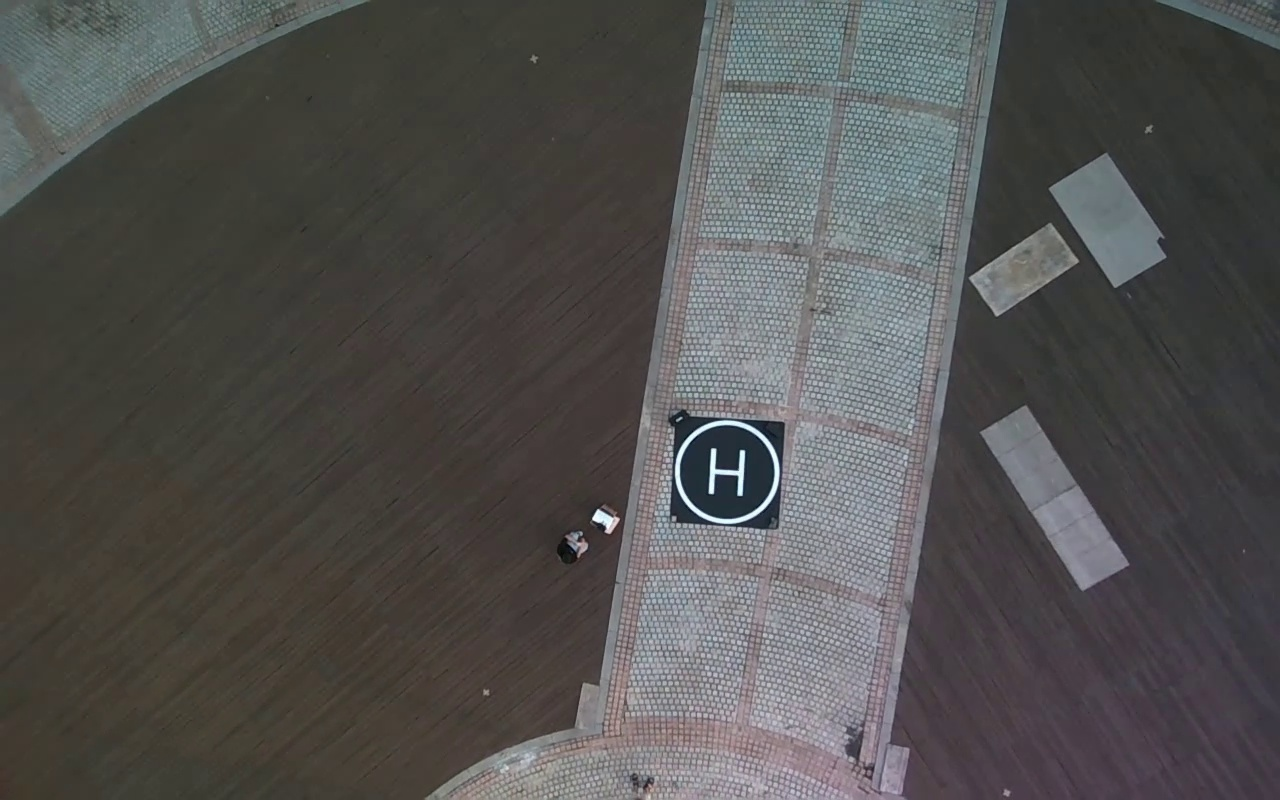H: (707, 446, 745, 498)
heliport: (676, 419, 780, 525)
